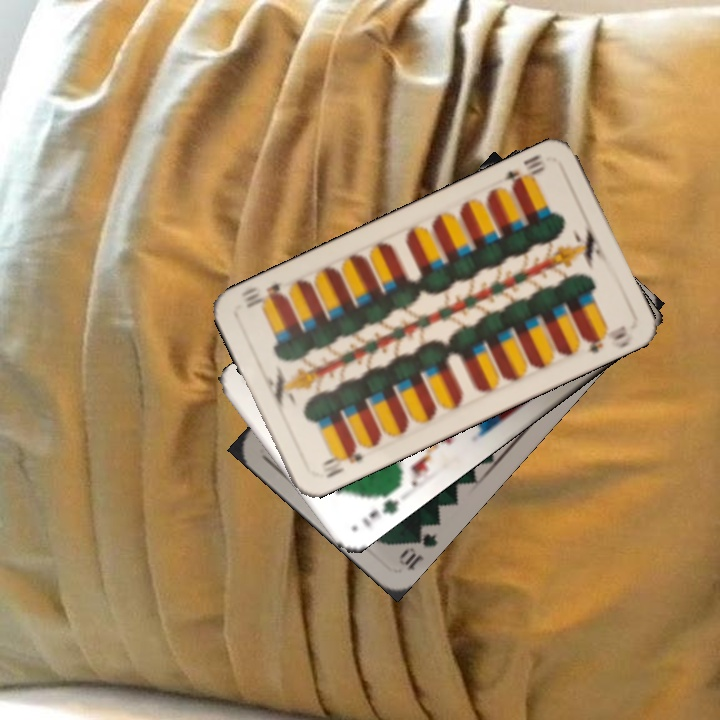E10: (500, 151, 548, 193), (319, 442, 366, 481)
G10: (395, 519, 440, 574)
GK: (358, 495, 402, 531)
